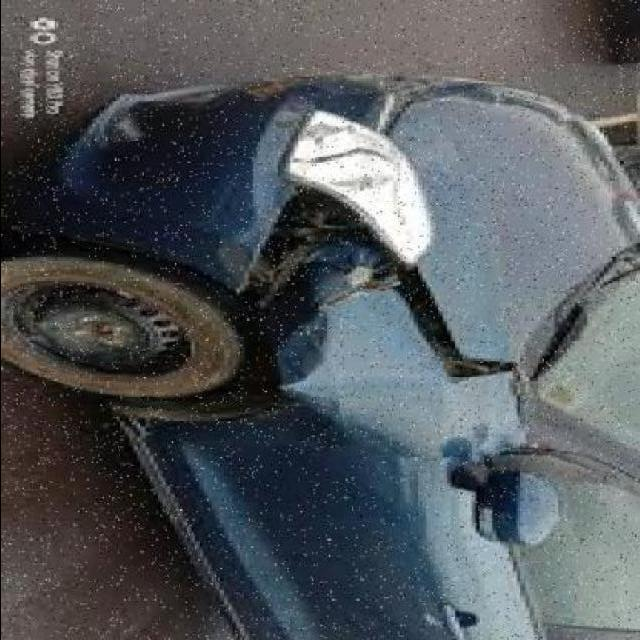fender-dent: (148, 273, 437, 456)
front-bumper-dent: (44, 74, 313, 273)
